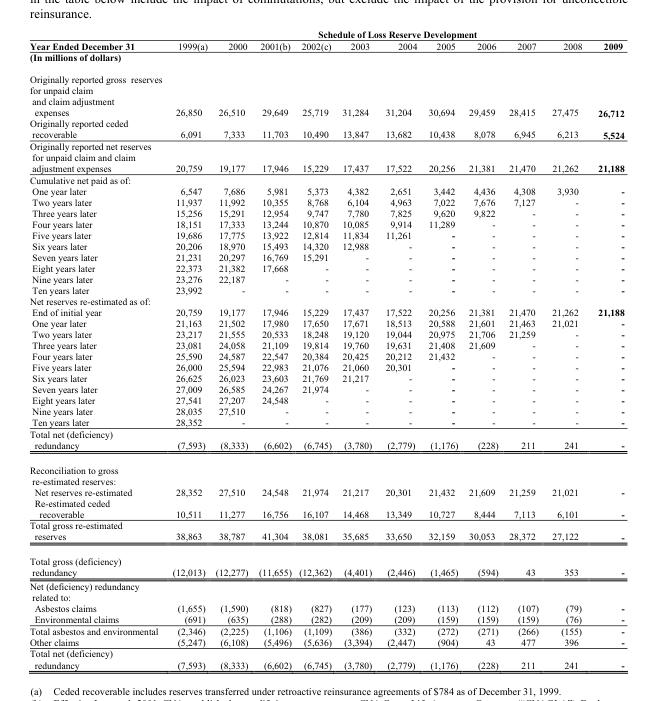table: (28, 28, 623, 669)
table column: (28, 28, 166, 669), (377, 28, 422, 669), (544, 28, 589, 669), (166, 28, 210, 669), (210, 28, 252, 669), (252, 28, 294, 669), (294, 28, 336, 669), (502, 28, 544, 669), (336, 28, 377, 669), (422, 28, 462, 669), (462, 28, 502, 669), (589, 28, 623, 669)
table column header: (28, 28, 623, 51)
table projected row header: (28, 456, 623, 485), (28, 579, 623, 602), (28, 51, 623, 68), (28, 173, 623, 184), (28, 295, 623, 306)
table row: (28, 68, 623, 117), (28, 140, 623, 173), (28, 548, 623, 579), (28, 427, 623, 456), (28, 456, 623, 485), (28, 519, 623, 548), (28, 117, 623, 140), (28, 496, 623, 519), (28, 579, 623, 602), (28, 647, 623, 669), (28, 51, 623, 68), (28, 39, 623, 51), (28, 184, 623, 196), (28, 624, 623, 636), (28, 28, 623, 39), (28, 173, 623, 184), (28, 196, 623, 207), (28, 207, 623, 218), (28, 218, 623, 229), (28, 229, 623, 240), (28, 240, 623, 251), (28, 251, 623, 262), (28, 262, 623, 273), (28, 273, 623, 284), (28, 284, 623, 295), (28, 295, 623, 306), (28, 306, 623, 317), (28, 317, 623, 328), (28, 328, 623, 339), (28, 339, 623, 350), (28, 350, 623, 361), (28, 361, 623, 372), (28, 372, 623, 383), (28, 383, 623, 394), (28, 394, 623, 405), (28, 405, 623, 416), (28, 416, 623, 427), (28, 485, 623, 496), (28, 602, 623, 613), (28, 613, 623, 624), (28, 636, 623, 647)
table spanning cell: (166, 28, 623, 39), (28, 28, 166, 51)
